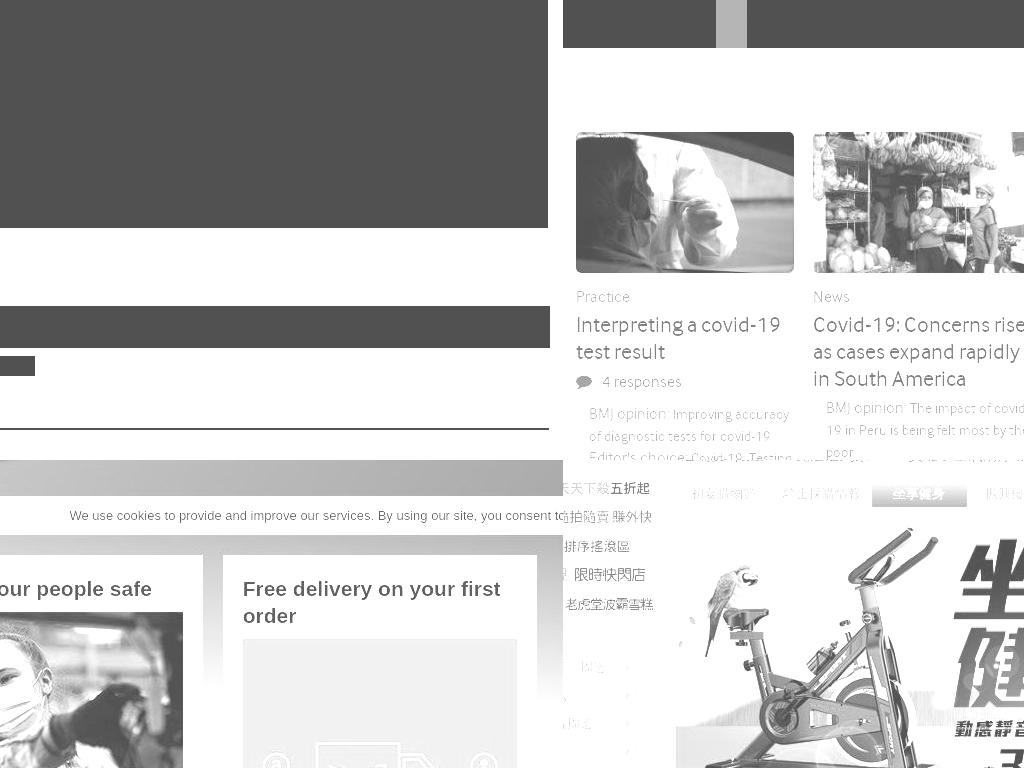button: (676, 509, 1024, 768), (242, 639, 518, 768), (0, 612, 183, 768), (565, 0, 665, 48), (811, 0, 900, 48), (747, 0, 811, 48), (962, 0, 1024, 48), (900, 0, 962, 48), (665, 0, 716, 48), (563, 660, 620, 676), (563, 688, 620, 704), (563, 716, 620, 732), (563, 744, 620, 760)
heading: (0, 306, 550, 348), (813, 311, 1024, 391), (242, 575, 518, 629), (563, 68, 1024, 96), (576, 311, 782, 364), (0, 575, 183, 602), (563, 626, 654, 644), (563, 660, 606, 675), (563, 716, 593, 731)
iframe: (0, 0, 548, 228)
image: (676, 509, 1024, 768), (242, 639, 518, 768), (576, 132, 795, 274), (813, 132, 1024, 274), (0, 612, 183, 768), (563, 476, 656, 499), (563, 505, 656, 528), (563, 534, 656, 557), (563, 563, 656, 586), (563, 592, 656, 615)
link: (826, 399, 1024, 460), (589, 406, 790, 445), (589, 450, 793, 460), (576, 287, 631, 306), (813, 287, 851, 306), (633, 660, 659, 675), (633, 688, 659, 703), (633, 716, 659, 731), (633, 744, 659, 759)
text: (69, 508, 563, 523), (772, 480, 871, 508), (870, 480, 969, 508), (675, 480, 773, 508), (968, 480, 1024, 508), (589, 405, 671, 424), (826, 398, 908, 417), (602, 373, 683, 392), (589, 449, 689, 460), (992, 8, 1024, 28)
